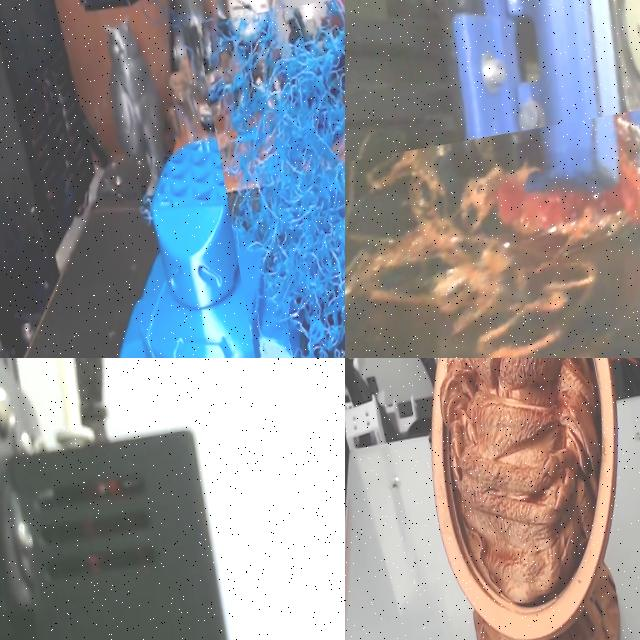spaghetti: (345, 112, 640, 358), (203, 9, 345, 358), (349, 130, 406, 258)
